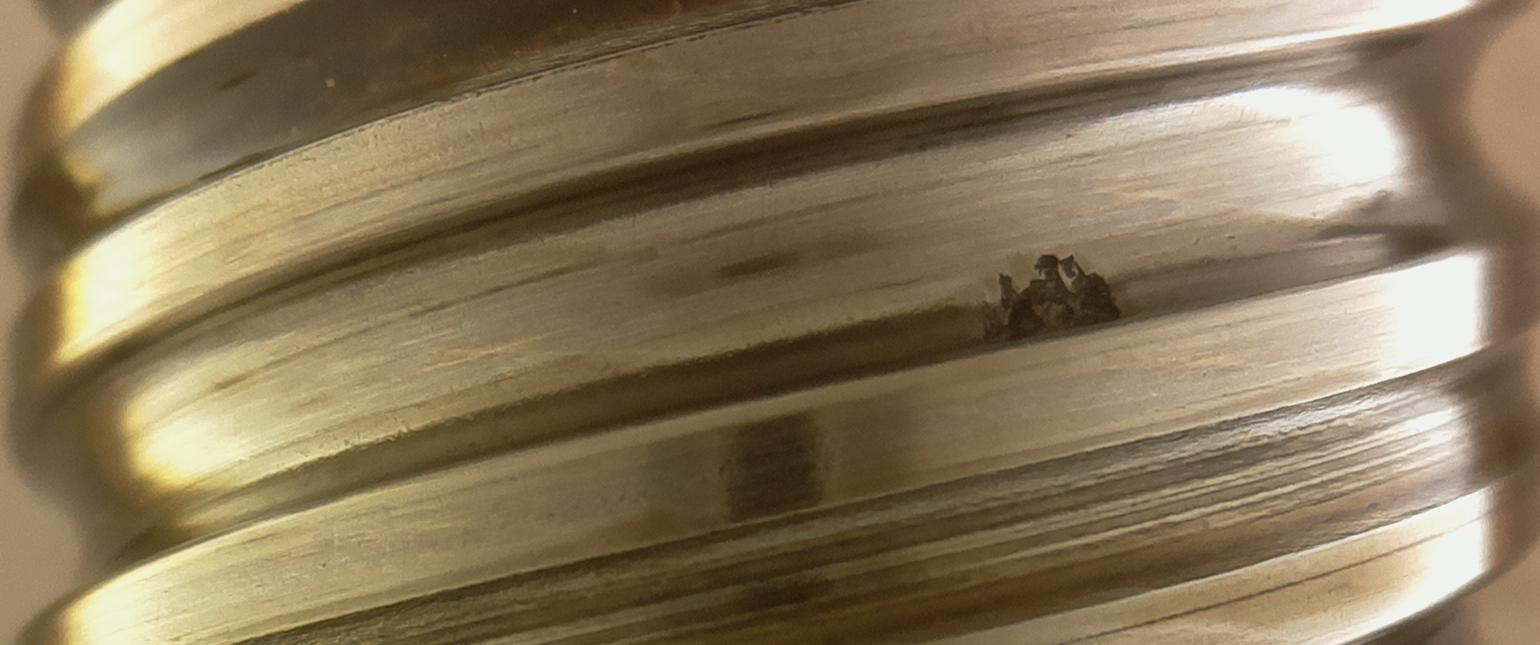pitting: (991, 254, 1121, 342)
